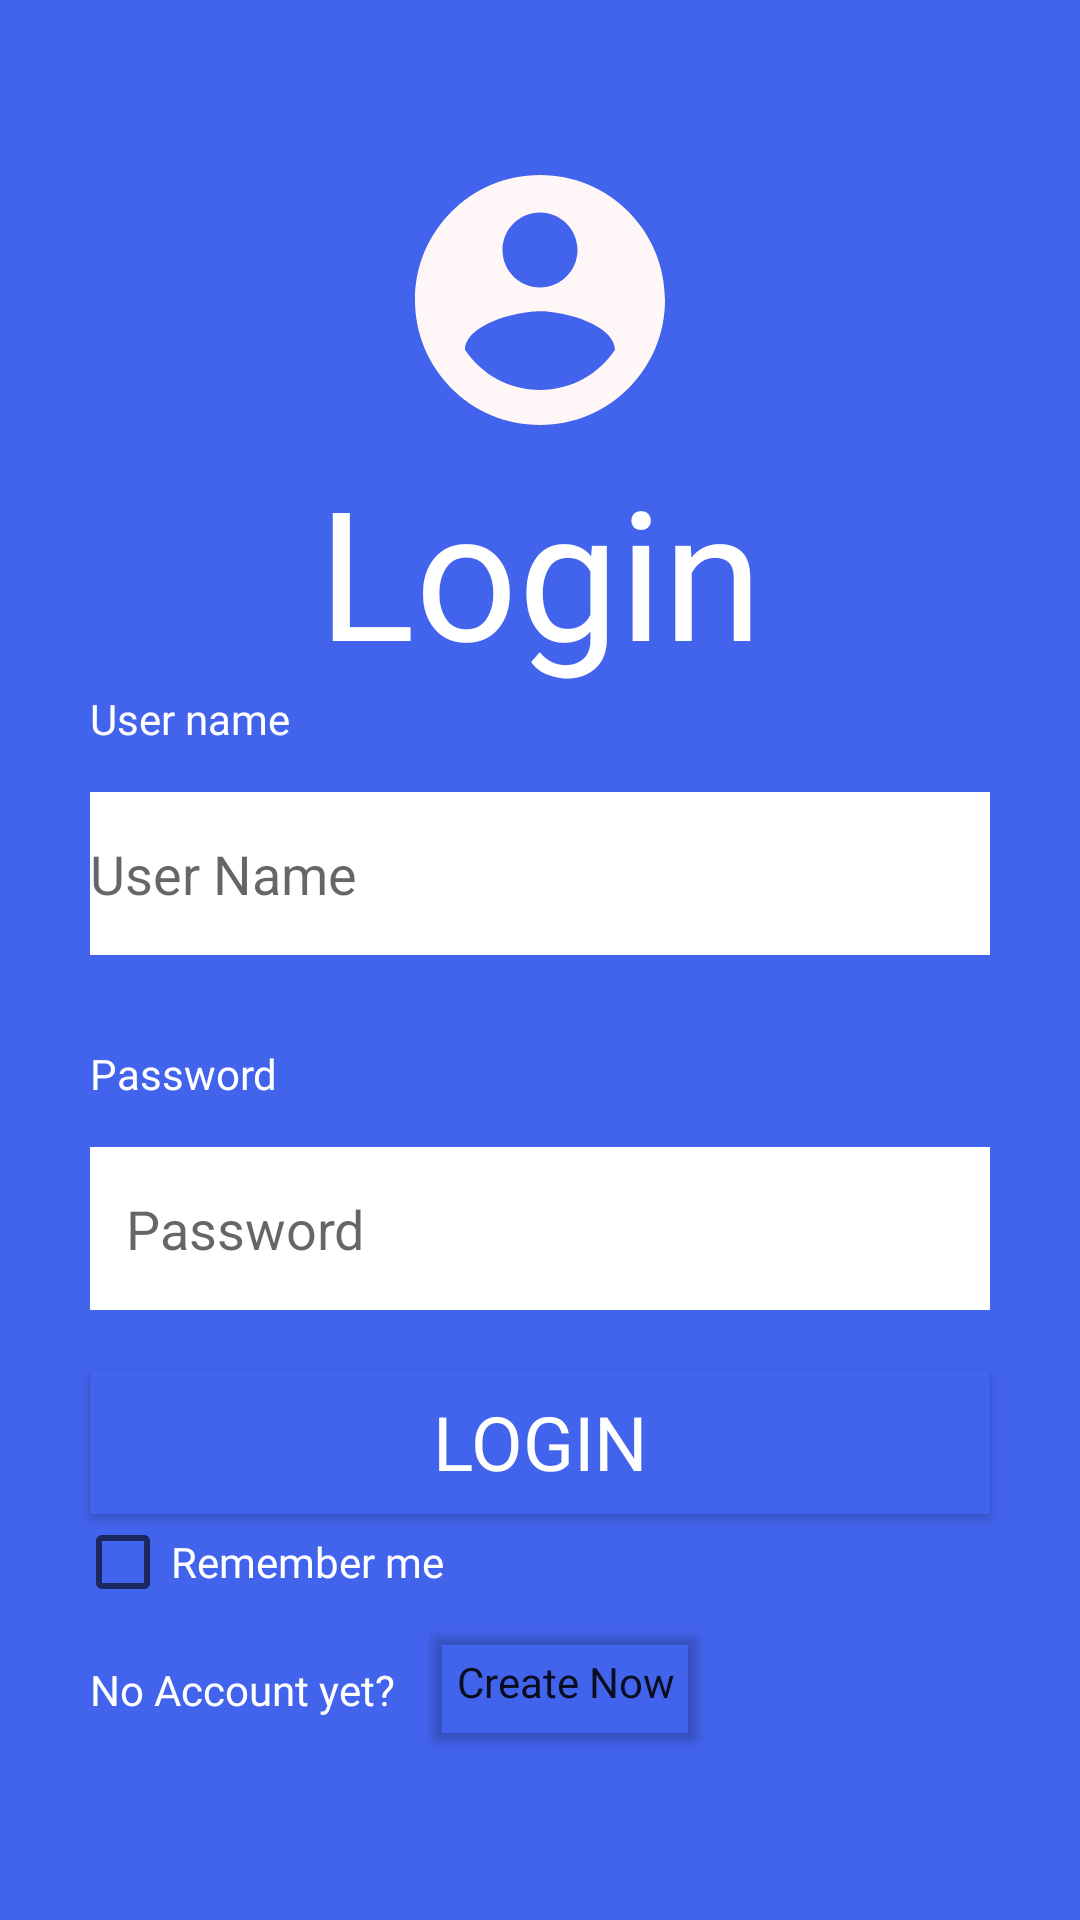

Screen size 1080×1920. Icon name, then its box in pixels as (x1, y1, x2, y2):
usericon: (415, 175, 665, 425)
